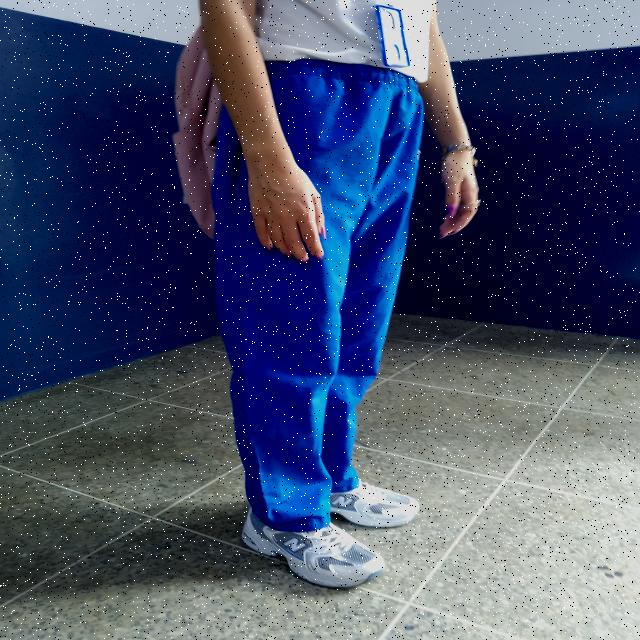uniforme_superior: (208, 57, 428, 534)
